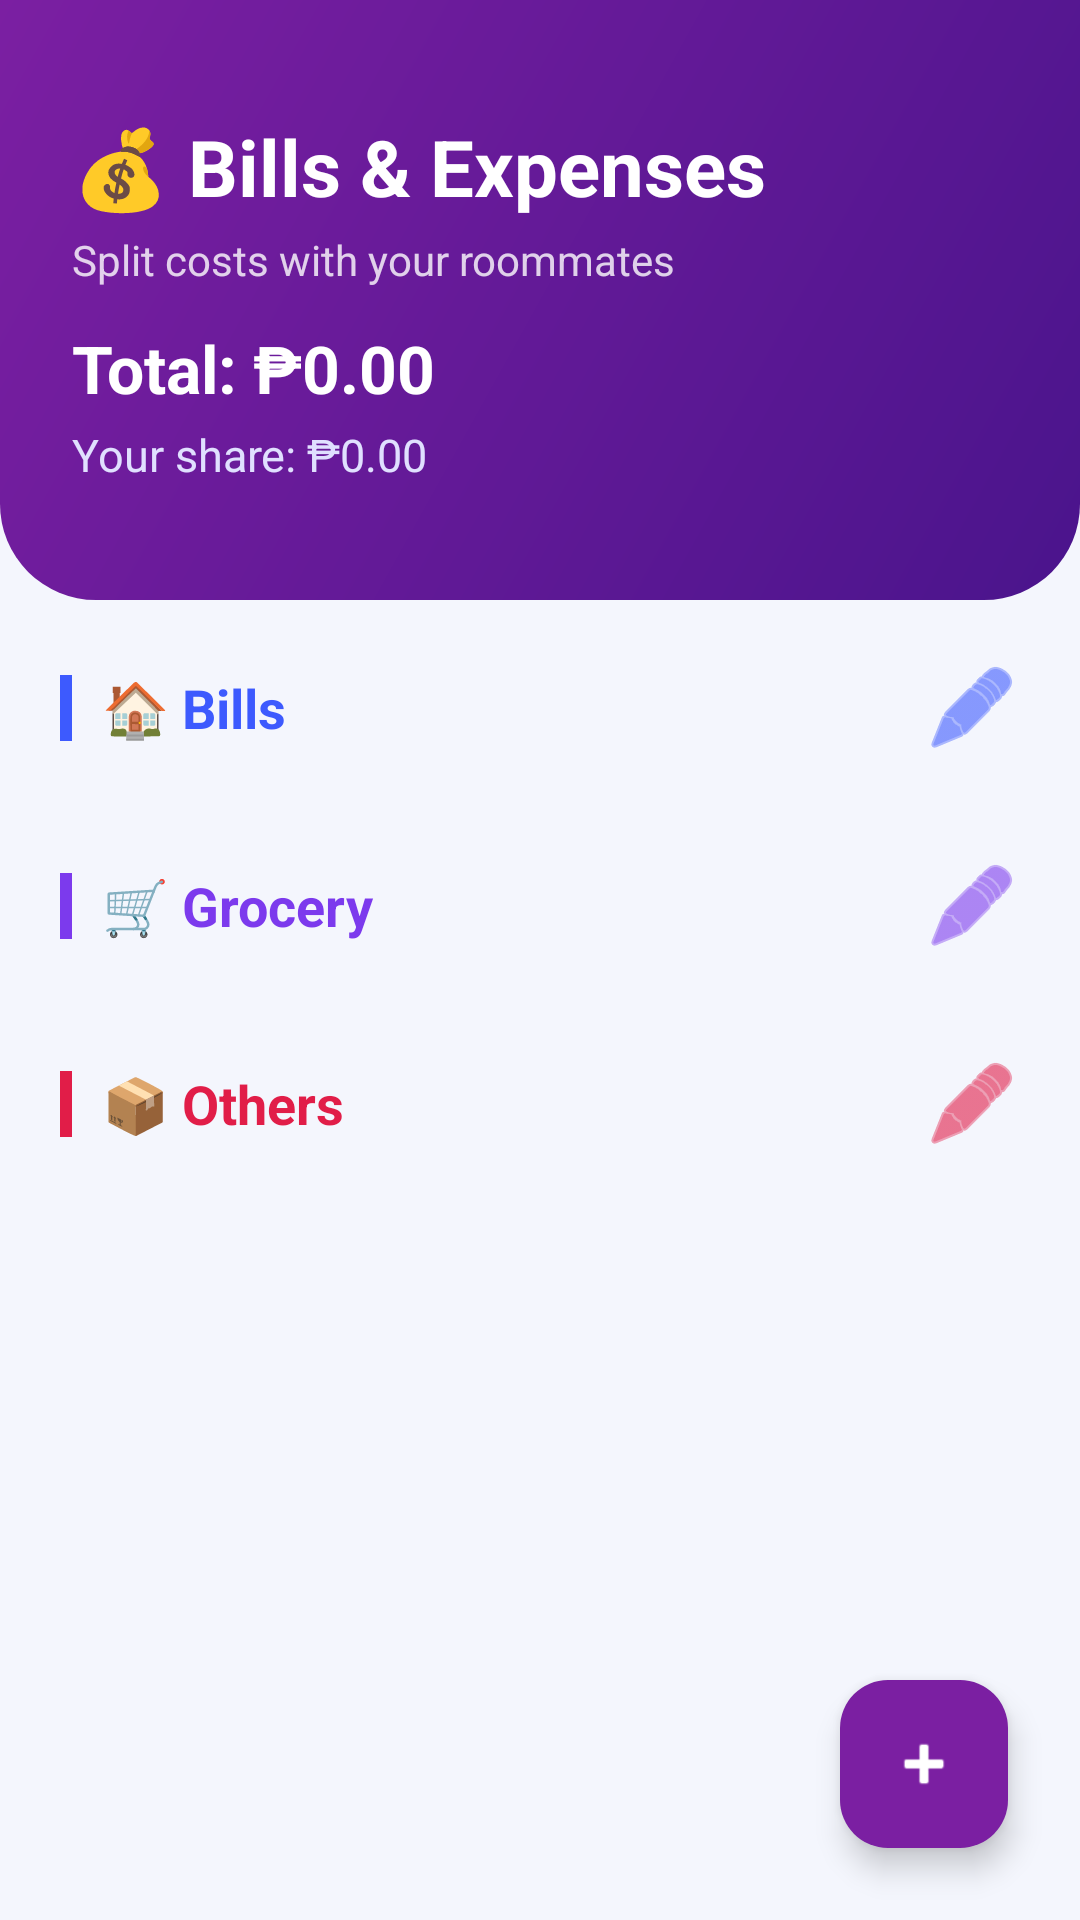

Named icons in this screenshot (1080*1920) and their bounding boxes, [x1,y1,x2,y2]:
add: [840,1680,1008,1848]
edit: [931,667,1012,748], [931,865,1012,946], [931,1063,1012,1144]
